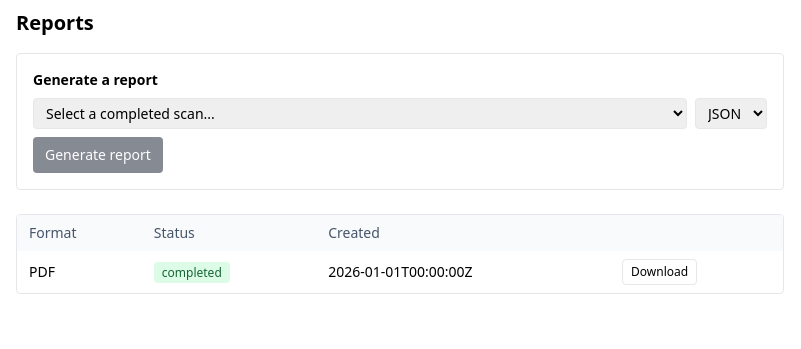
ReportsPage › surfaces a download error (e.g. a 409 race) without crashing the page
Expected: the table is shown, [17,215,783,293]
What coordinates should you click on to do the following:
click the button "Download"
I would click on:
 (660, 272)
Its box is [622,259,697,285].
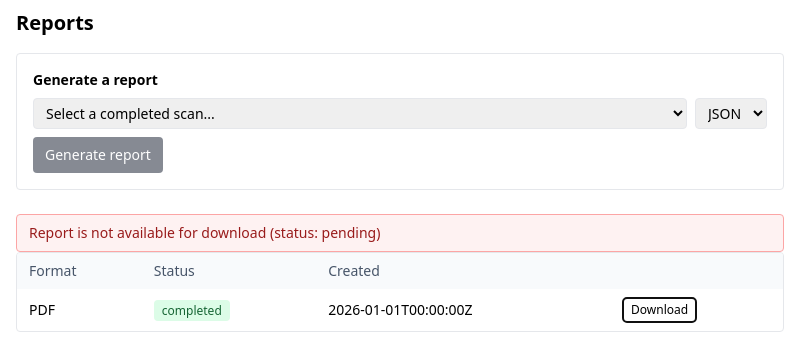
Result: the message "Report is not available for download (status: pending)" is shown at [16,214,784,252]
